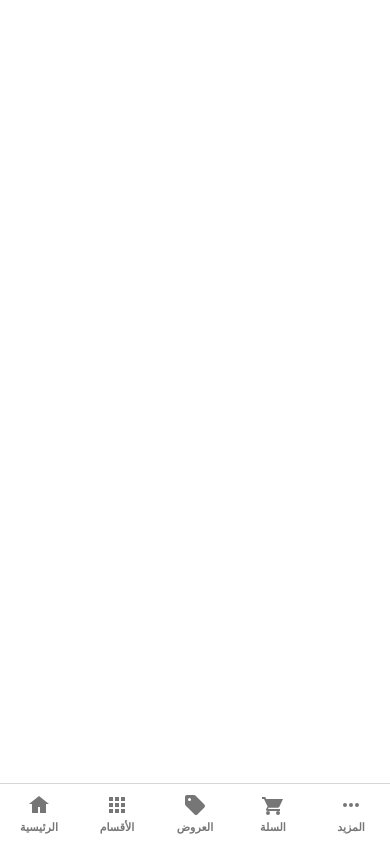
Test: mobile bottom nav › welcomes visitors without an account in the sheet (Arabic)
Click the button "المزيد" at (351, 814), box top-left (312, 784), bottom-right (389, 843)
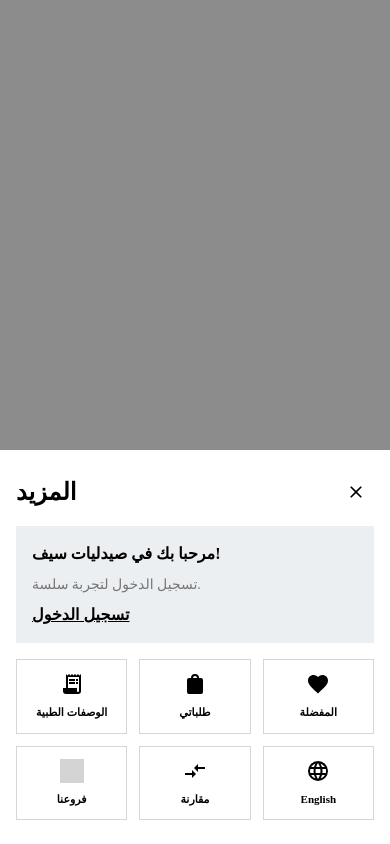
Expected: the text "مرحبا بك في صيدليات سيف!" is shown, top-left (32, 545), bottom-right (220, 562)
